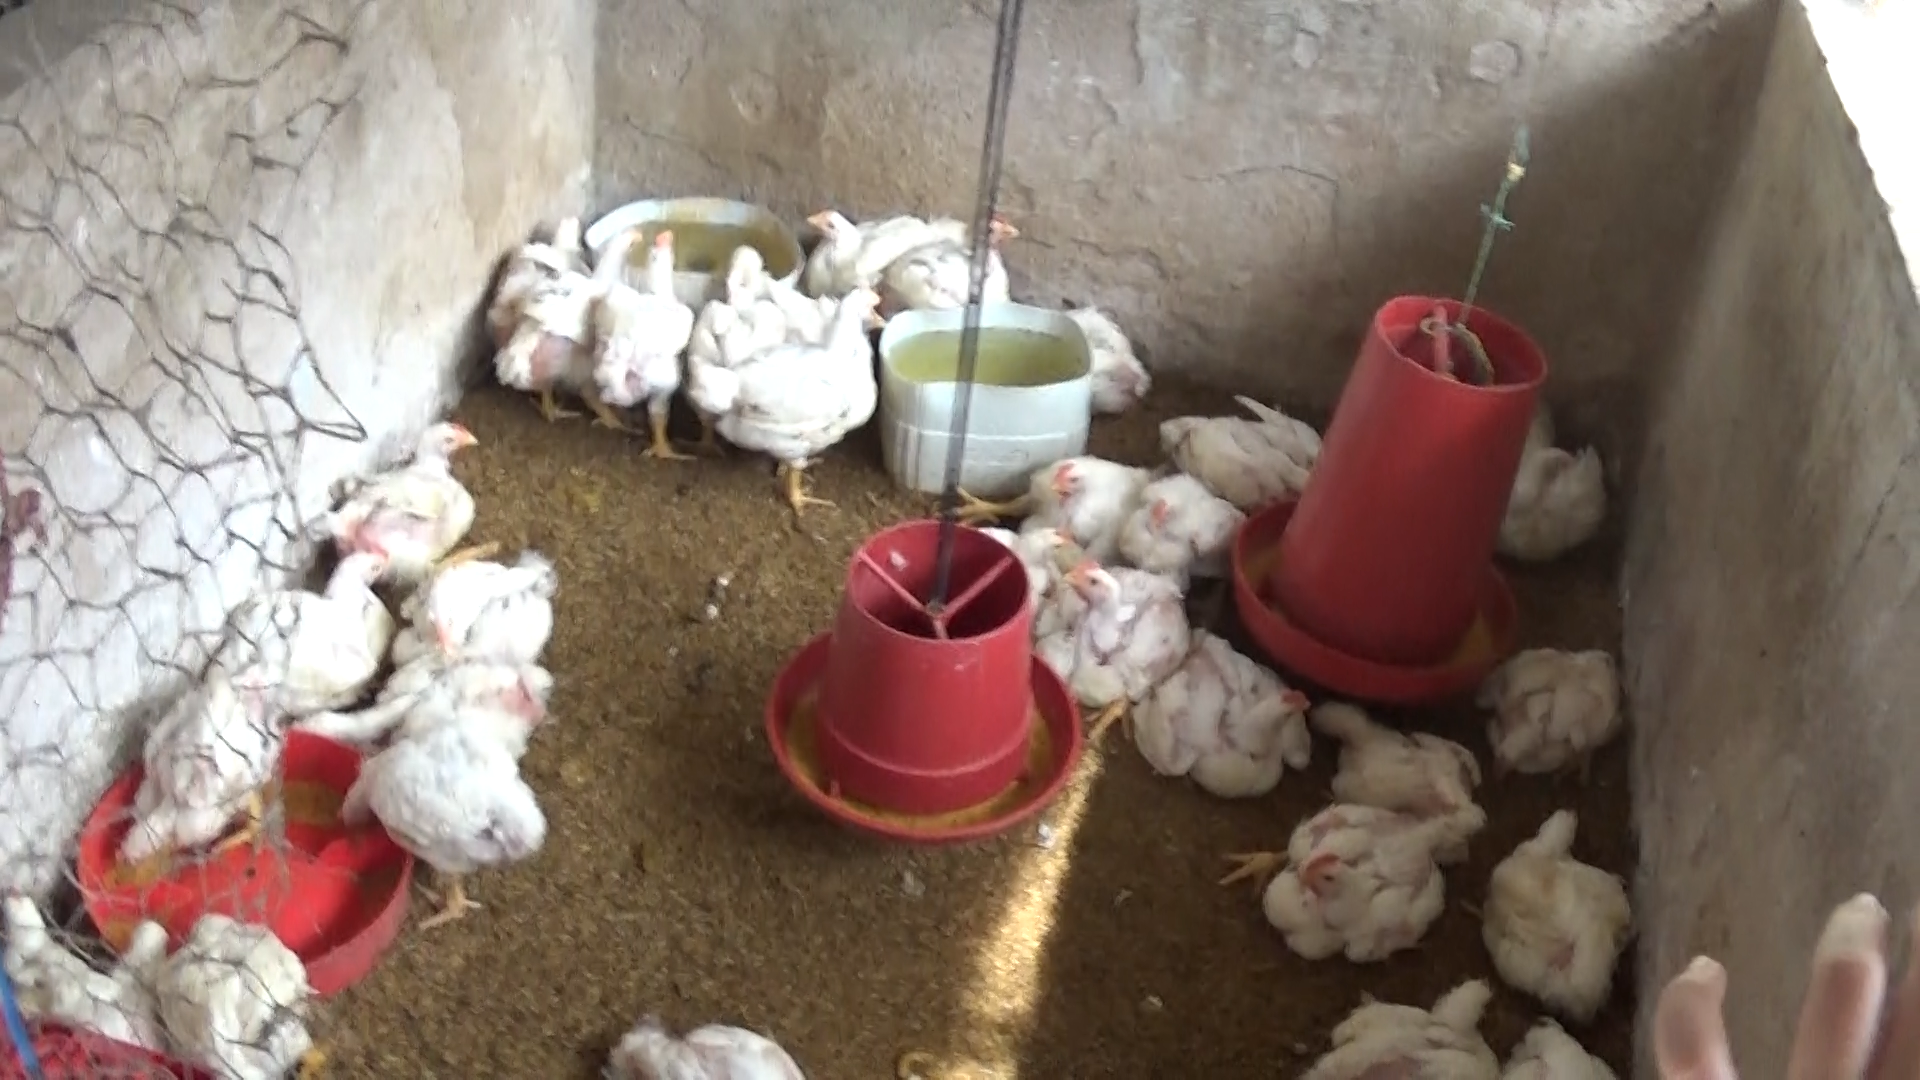Pollos: (88, 621, 287, 876), (698, 280, 887, 520), (1218, 791, 1462, 972), (328, 731, 542, 914), (1477, 794, 1644, 1006), (224, 535, 404, 728), (1135, 636, 1313, 808), (496, 225, 645, 429), (1282, 687, 1484, 828), (584, 224, 687, 476), (1040, 551, 1191, 709), (324, 411, 483, 562), (1477, 632, 1631, 782), (375, 666, 588, 766), (1162, 392, 1317, 520), (397, 545, 560, 666), (870, 202, 1034, 305), (1006, 444, 1160, 538), (1480, 415, 1604, 531), (489, 196, 587, 313), (1126, 469, 1250, 558), (804, 202, 887, 313)
